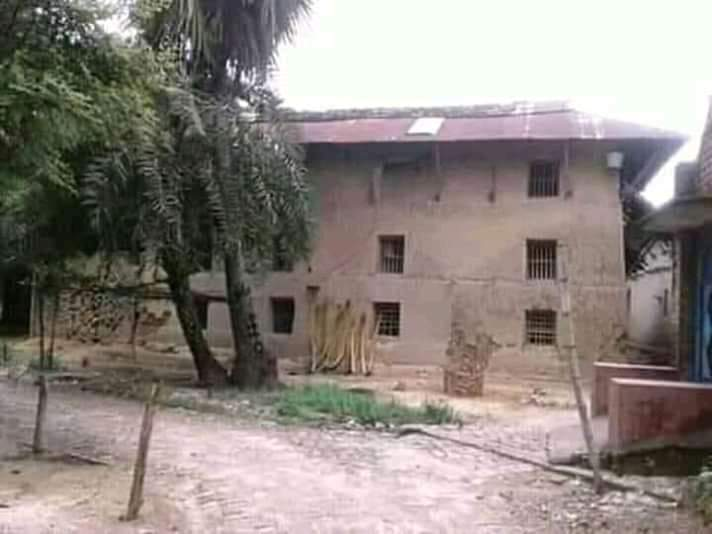Mud House: (220, 89, 653, 404)
